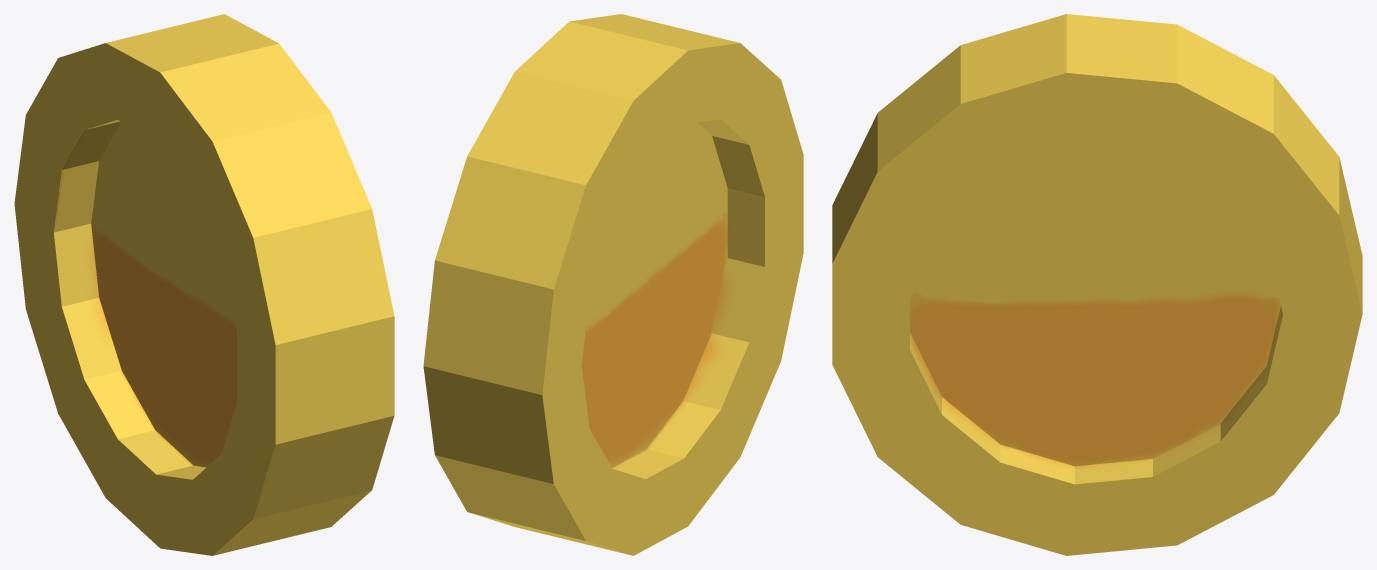
Rendered from Coin.fbx.
3 renders of one model, left to right at view 1: azimuth 30°, elevation 25°; view 2: azimuth 150°, elevation 25°; view 3: azimuth 270°, elevation 25°, orthographic.
Visible parts, largest first — view 1: Cylinder; view 2: Cylinder; view 3: Cylinder.
Part boxes in pixels (x1,y1,x2,y2): Cylinder: [14, 14, 394, 555]; Cylinder: [423, 14, 803, 555]; Cylinder: [832, 14, 1362, 555].
Bounding box in the file's own units: 52 × 199 × 198.
Materials: 1 (1 with a texture image).
